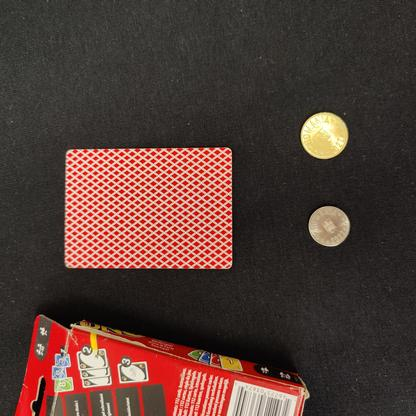card: (57, 144, 240, 276)
